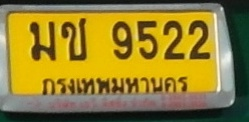txt08: (60, 17, 88, 64)
txt28: (27, 20, 59, 64)
